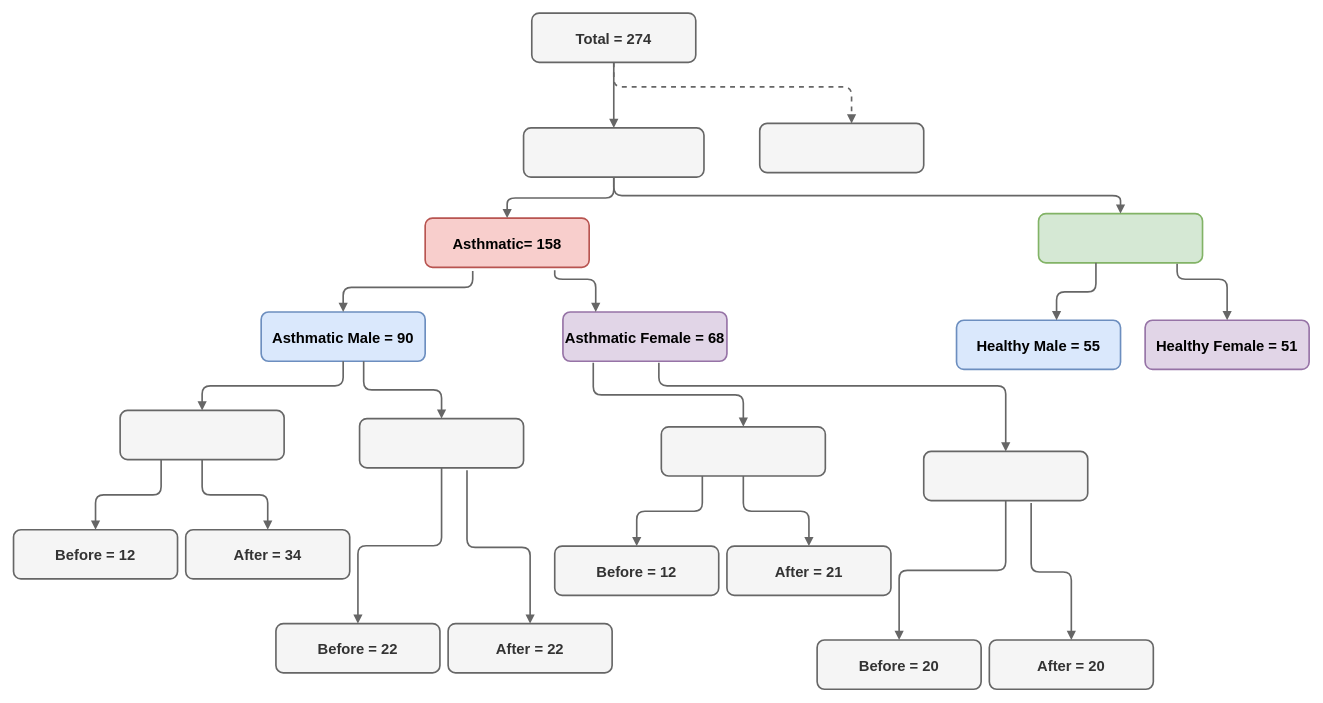
Some shapes in this 1323 by 703 pixel diagram are drawn without their labels. The shapes that lost their labels are listed below. From the top down, each one's centre as x and y in pixels, then its label:
(x=613, y=152): Total - NaAsthma = 264
(x=841, y=147): NaAsthma = 10
(x=1120, y=237): Healthy = 106
(x=202, y=434): Unique = 46
(x=441, y=442): Before_after pair = 44
(x=743, y=451): Unique = 28
(x=1005, y=475): Before_after pair = 40
